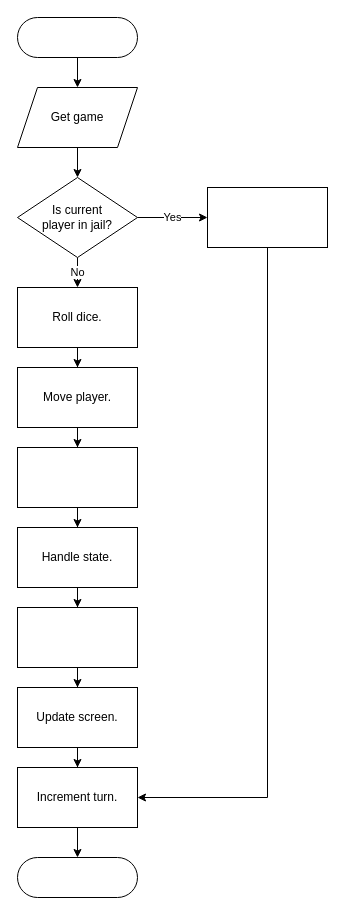
Some shapes in this 345 by 915 pixel diagram are drawn without their labels. Here are the shapes that lost their labels. From the top down, the box of each, then its label:
(206, 186, 328, 248): Free player
(16, 446, 138, 508): Update state.
(16, 606, 138, 668): Handle input.
(16, 856, 138, 898): End
